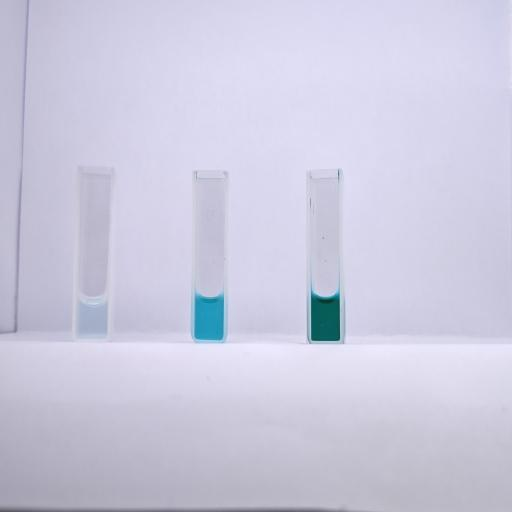cuvette: (72, 163, 117, 343), (304, 167, 347, 345), (190, 167, 232, 344)
liquid: (311, 292, 340, 341), (76, 294, 108, 338), (195, 292, 223, 341)
